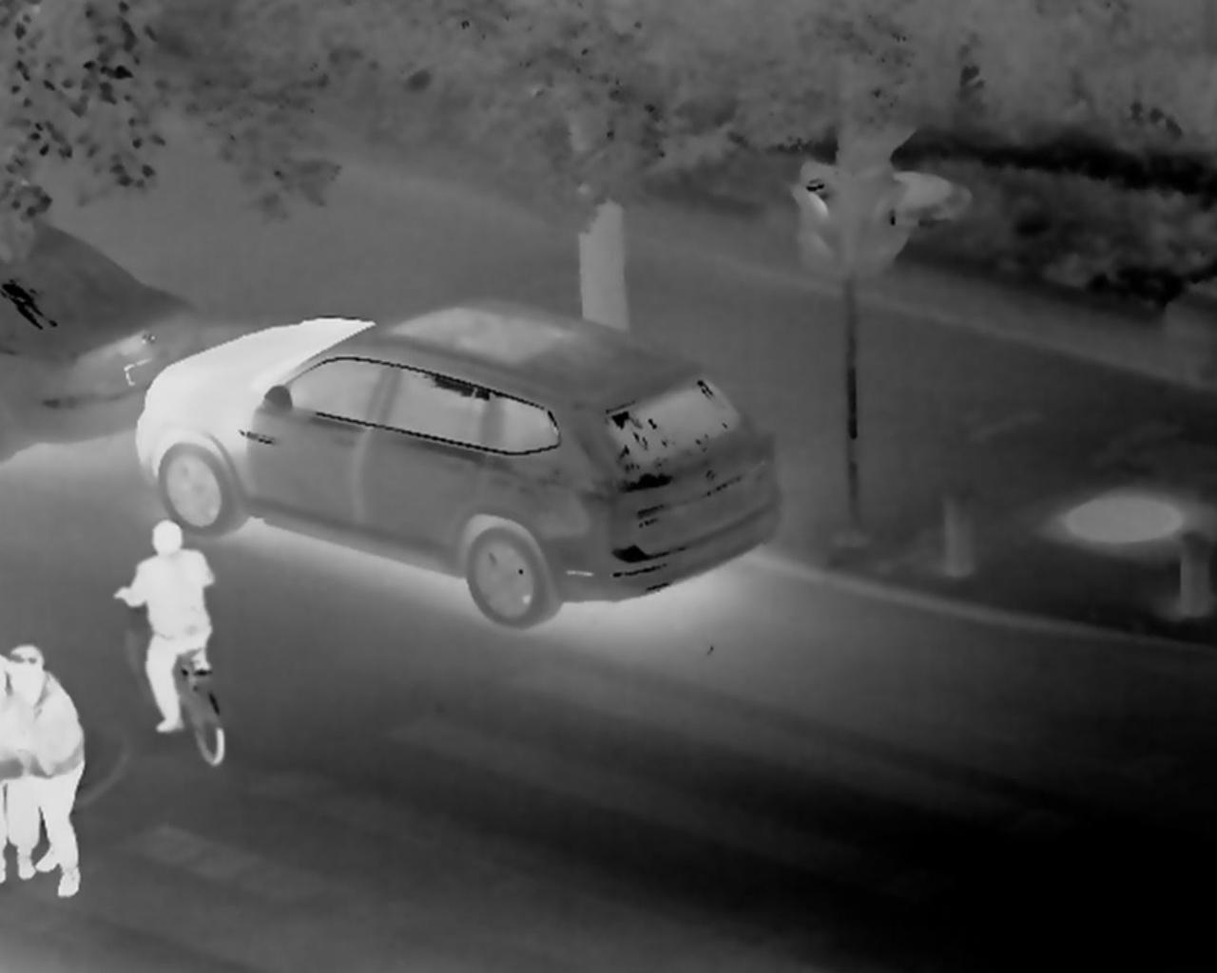person: (111, 514, 215, 737), (6, 648, 87, 902)
